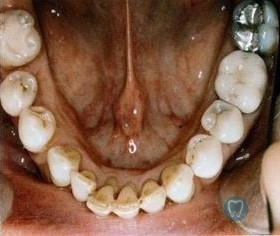LL1BC_decay: (186, 133, 223, 183)
LL1M_decay: (214, 51, 266, 114)
LL2BC_decay: (200, 101, 248, 144)
LL2M_decay: (229, 1, 280, 54)
LLCI_decay: (112, 186, 139, 221)
LLC_decay: (160, 164, 194, 206)
LLLI_decay: (139, 178, 166, 214)
LR1BC_decay: (18, 104, 56, 152)
LR1M_decay: (1, 8, 43, 68)
LR2BC_decay: (1, 70, 38, 117)
LRCI_decay: (87, 185, 113, 217)
LRC_decay: (49, 145, 82, 188)
LRLI_decay: (70, 170, 97, 204)
